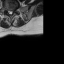CCS_stenosis: (10, 9, 11, 16)
LFS_severe_stenosis: (13, 8, 15, 12)
LLS_stenosis: (11, 9, 13, 14)
RFS_stenosis: (6, 7, 8, 12)
RLS_normal: (8, 9, 10, 15)
